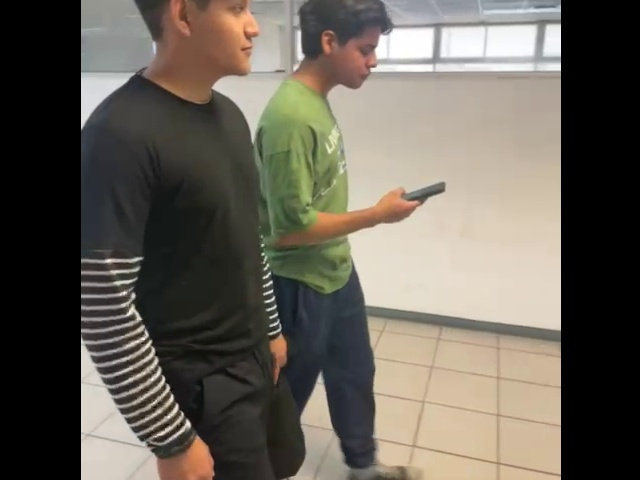mixto2: (402, 178, 448, 200)
